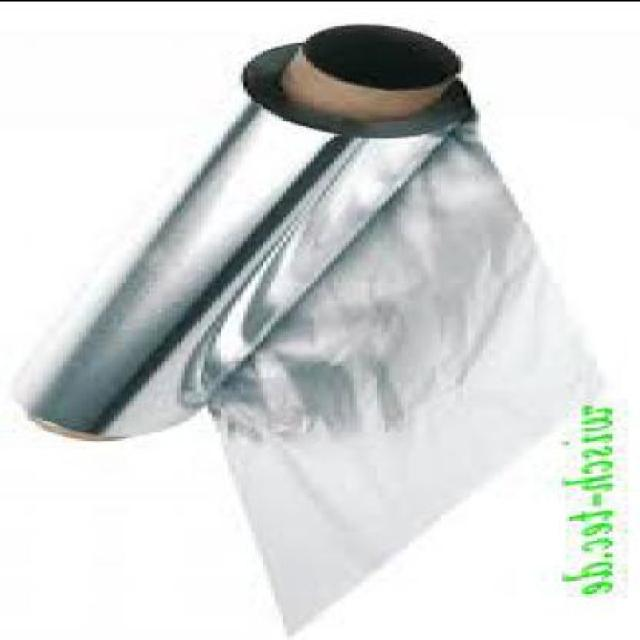METAL: (12, 40, 546, 634)
